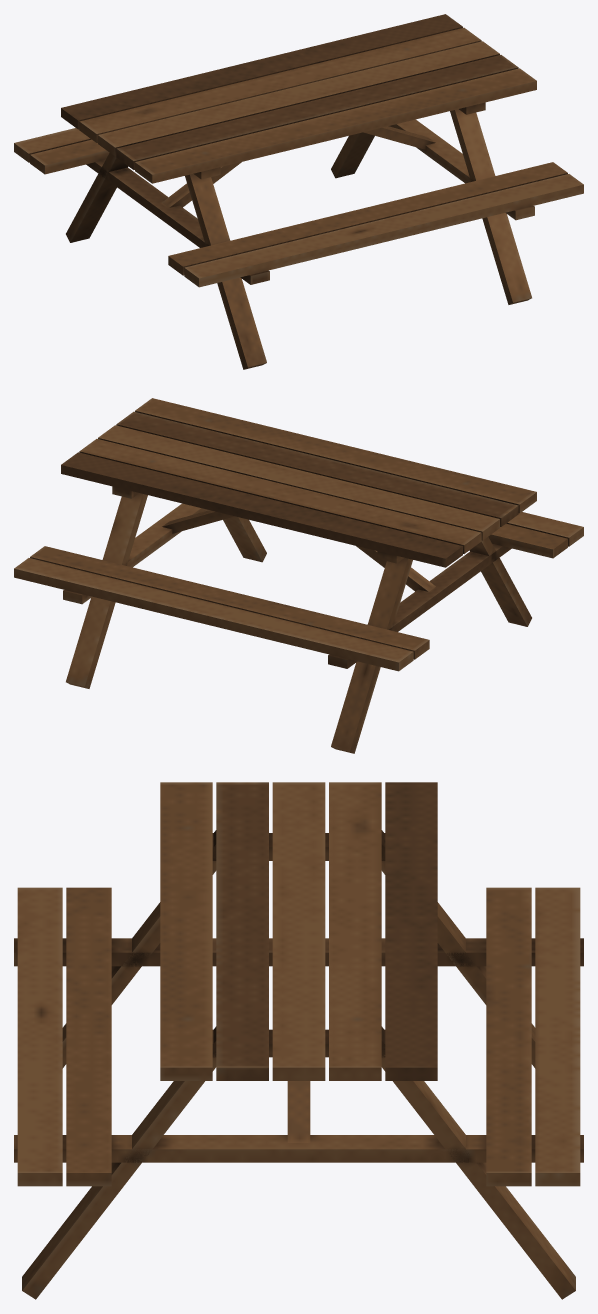
The model's file is Picnic_Table_01.obj.
3 renders of one model, top to bottom at view 1: azimuth 30°, elevation 25°; view 2: azimuth 150°, elevation 25°; view 3: azimuth 270°, elevation 25°, orthographic. The views are drawn at different scales.
Visible parts, largest first — view 1: Picnic_Table_01; view 2: Picnic_Table_01; view 3: Picnic_Table_01.
Boxes of the visible parts, bbox=[...] form: Picnic_Table_01: bbox=[14, 14, 583, 369]; Picnic_Table_01: bbox=[14, 398, 583, 753]; Picnic_Table_01: bbox=[14, 782, 583, 1299].
Size of the model in its own units: 1.8 by 0.7929 by 1.52.
1 material, 1 textured.
